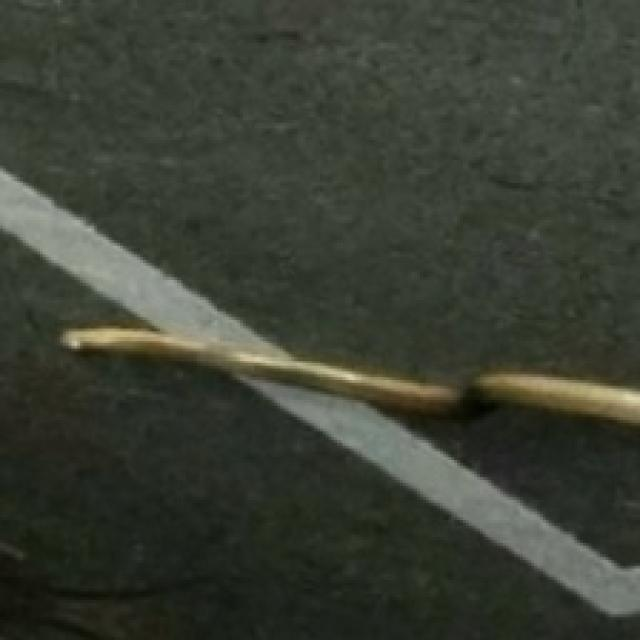king cobra: (60, 326, 637, 426), (340, 420, 543, 537)
